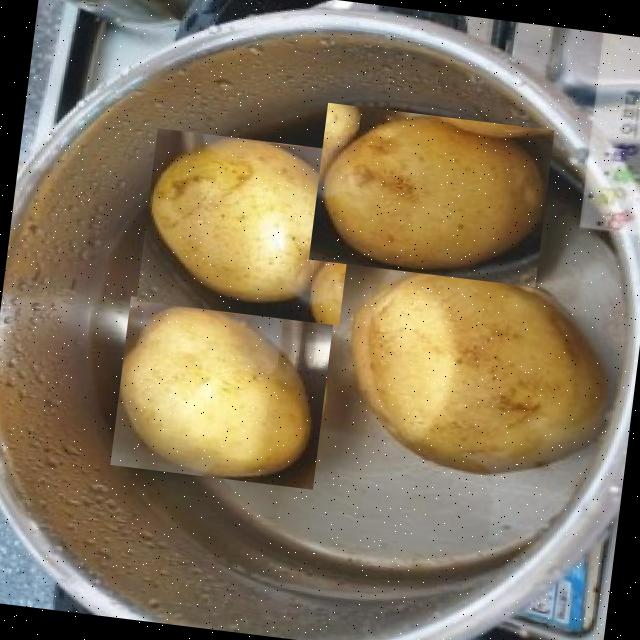Potato: (332, 247, 622, 488), (307, 102, 553, 287), (135, 127, 359, 326), (109, 296, 332, 490)
